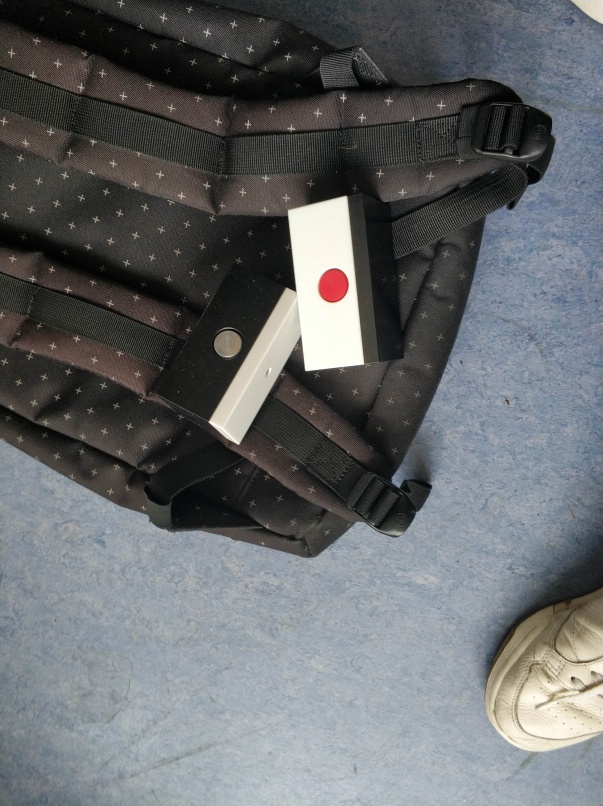black+white+red: (284, 190, 408, 378)
white+black+silver: (139, 265, 297, 452)
